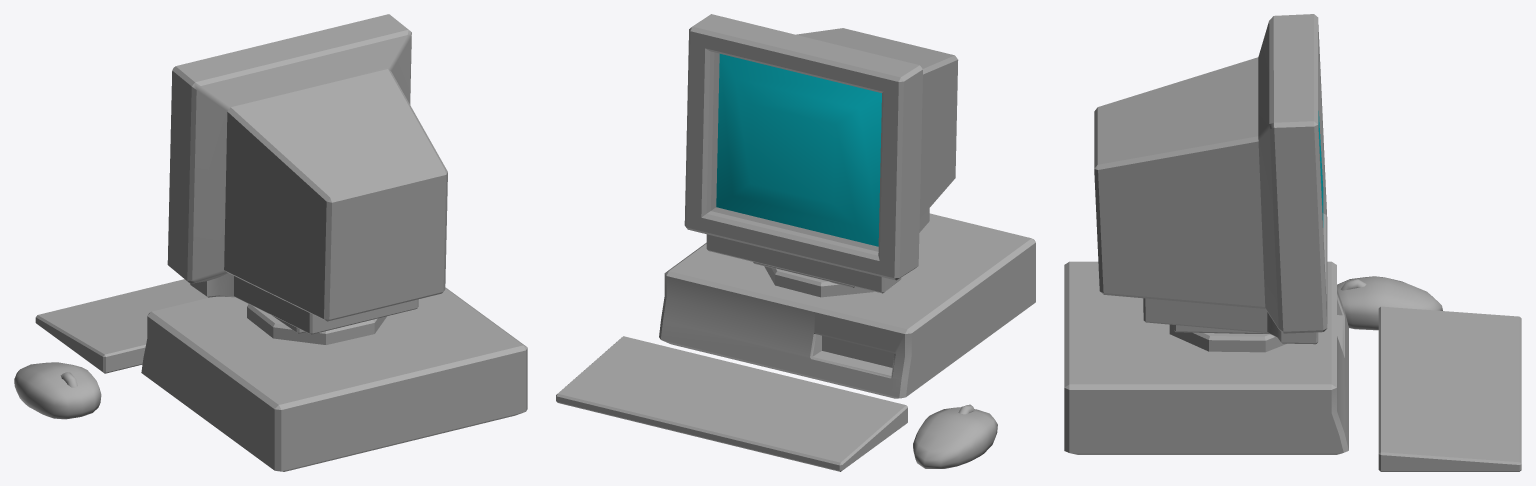
Rendered from old-computer-y-ting-mesh.fbx.
The picture shows the model from 3 angles, left to right: view 1: azimuth 30°, elevation 25°; view 2: azimuth 150°, elevation 25°; view 3: azimuth 270°, elevation 25°; orthographic projection. The views are drawn at different scales.
Visible parts, largest first — view 1: pCube3, pCube2, pCube4, pCube6, pCylinder1; view 2: pCube3, pCube2, pCube4, pCube6, pCylinder1; view 3: pCube3, pCube2, pCube4, pCube6, pCylinder1.
Part boxes in pixels (bbox=[...]): pCube3: bbox=[167, 14, 447, 334]; pCube2: bbox=[141, 287, 527, 471]; pCube4: bbox=[35, 279, 208, 373]; pCube6: bbox=[14, 362, 101, 419]; pCylinder1: bbox=[247, 304, 386, 344]; pCube3: bbox=[684, 14, 958, 293]; pCube2: bbox=[659, 213, 1035, 398]; pCube4: bbox=[556, 336, 907, 471]; pCube6: bbox=[913, 404, 997, 468]; pCylinder1: bbox=[764, 266, 873, 297]; pCube3: bbox=[1094, 14, 1327, 344]; pCube2: bbox=[1064, 261, 1348, 454]; pCube4: bbox=[1378, 306, 1521, 471]; pCube6: bbox=[1337, 276, 1442, 330]; pCylinder1: bbox=[1169, 324, 1286, 352].
Size of the model in its own units: 3.09 by 2.69 by 3.2.
